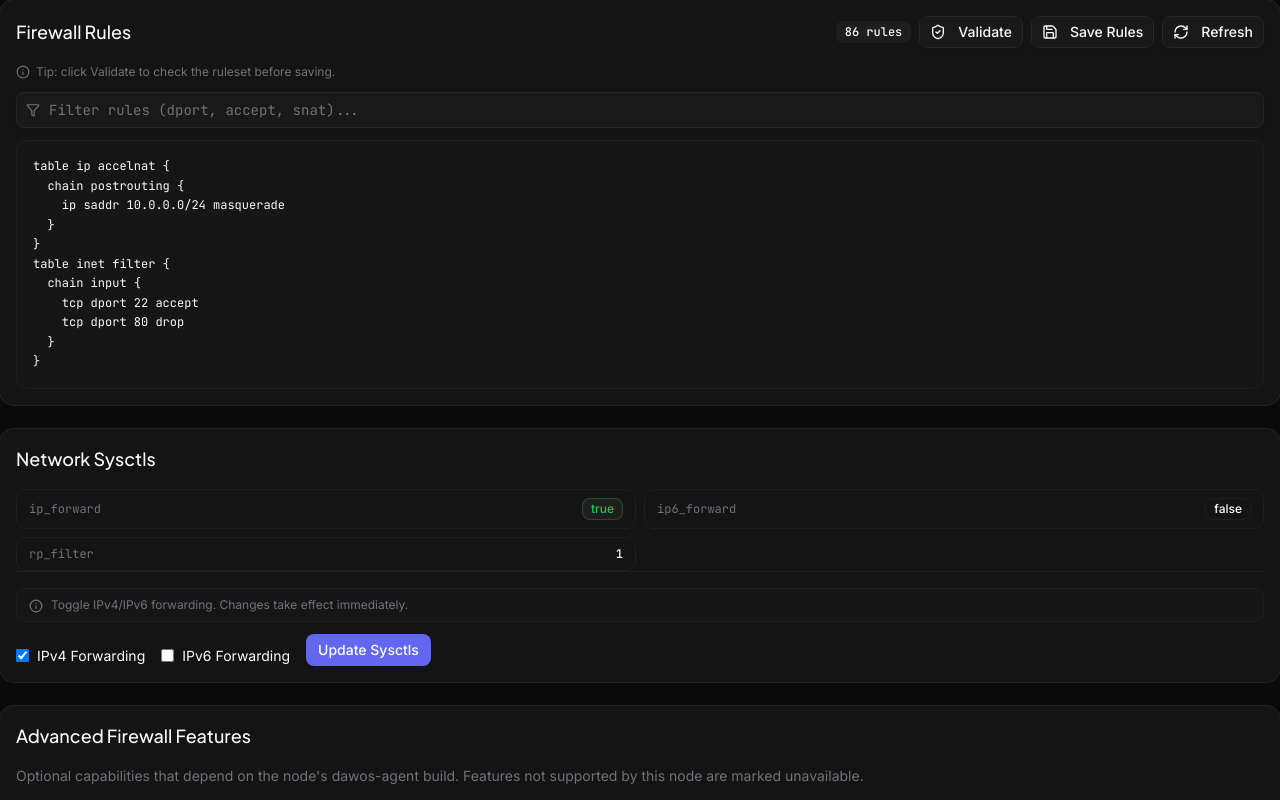
it: FirewallPage › shows the validate-before-save hint and validates the ruleset
Expected: the text "Tip: click Validate to check the ruleset before saving." is shown, [16, 64, 335, 79]
What coordinates should you click on to do the following:
click the button "Validate"
I would click on:
 (971, 32)
Its box is [919, 16, 1023, 48].
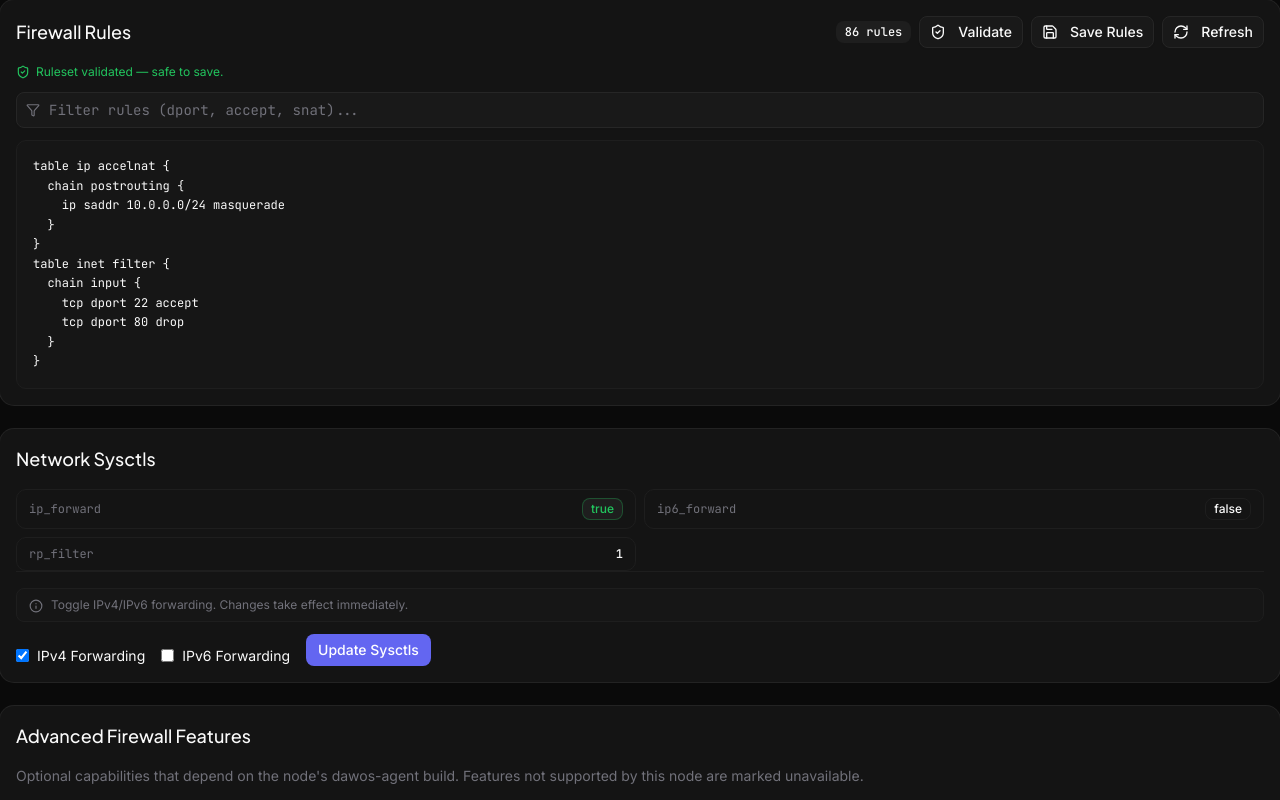
Result: the text "Ruleset validated — safe to save." is shown at [16, 64, 223, 79]
